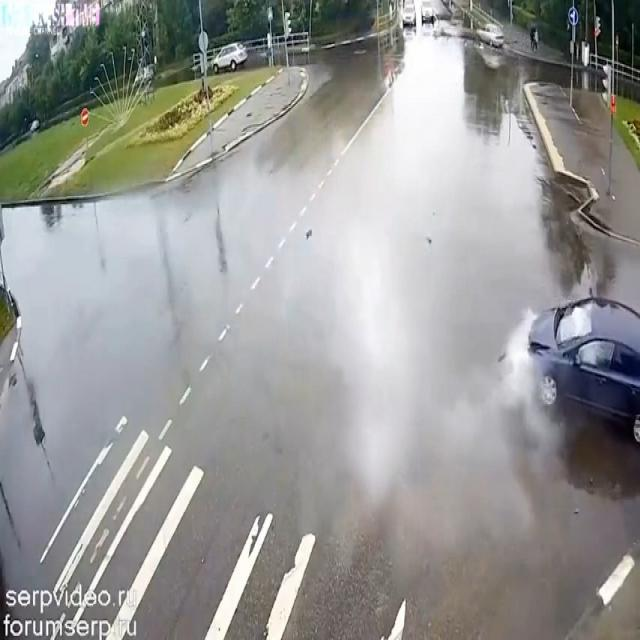Accident: (472, 242, 640, 518)
